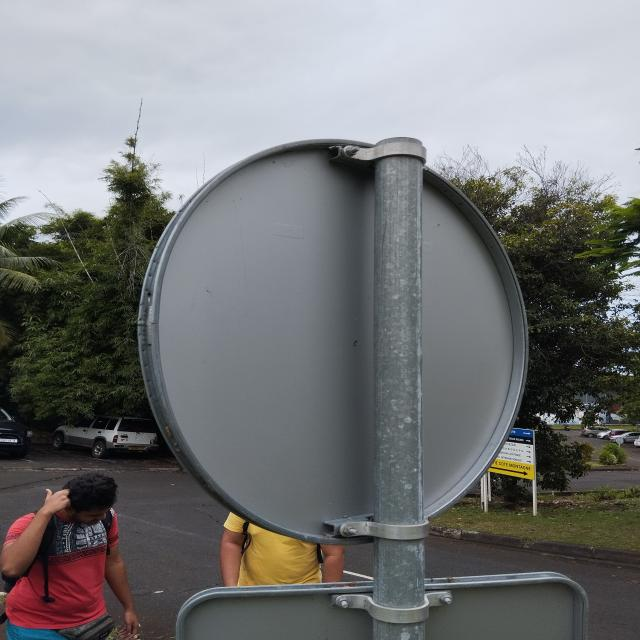Panneau: (138, 130, 534, 547)
